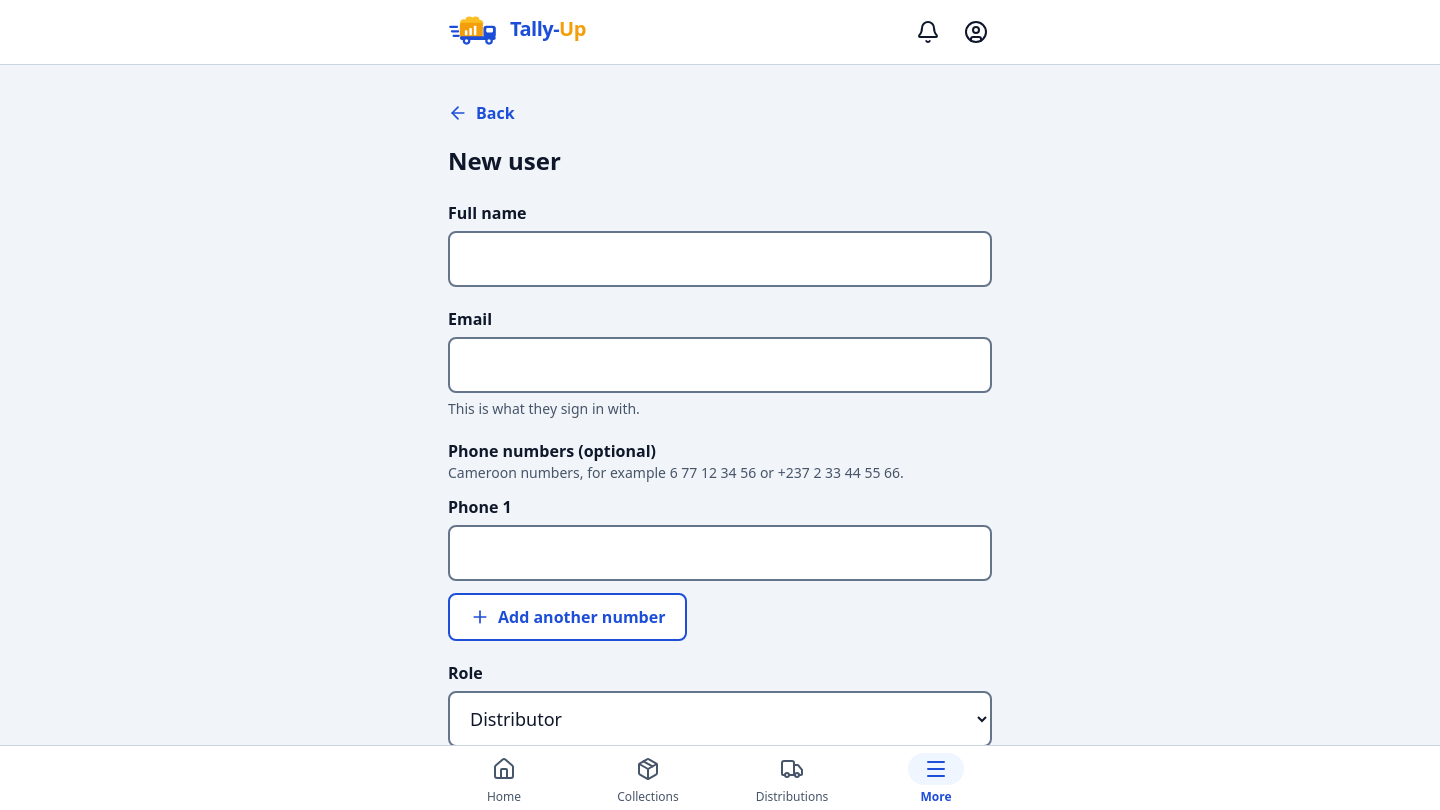
Test: Add user › USR-03: a depot manager needs a depot; only then is the form accepted
Expected: the field labelled "Depot" is not shown
Type "New Manager" into the field labelled "Full name" at [720, 259], box [448,231,992,287]
Type "new.manager@x.test" into the field labelled "Email" at [720, 365], box [448,337,992,393]
Select "Depot Manager" in the dropdown labelled "Role" at [720, 719], box [448,691,992,747]
(page scrolled)
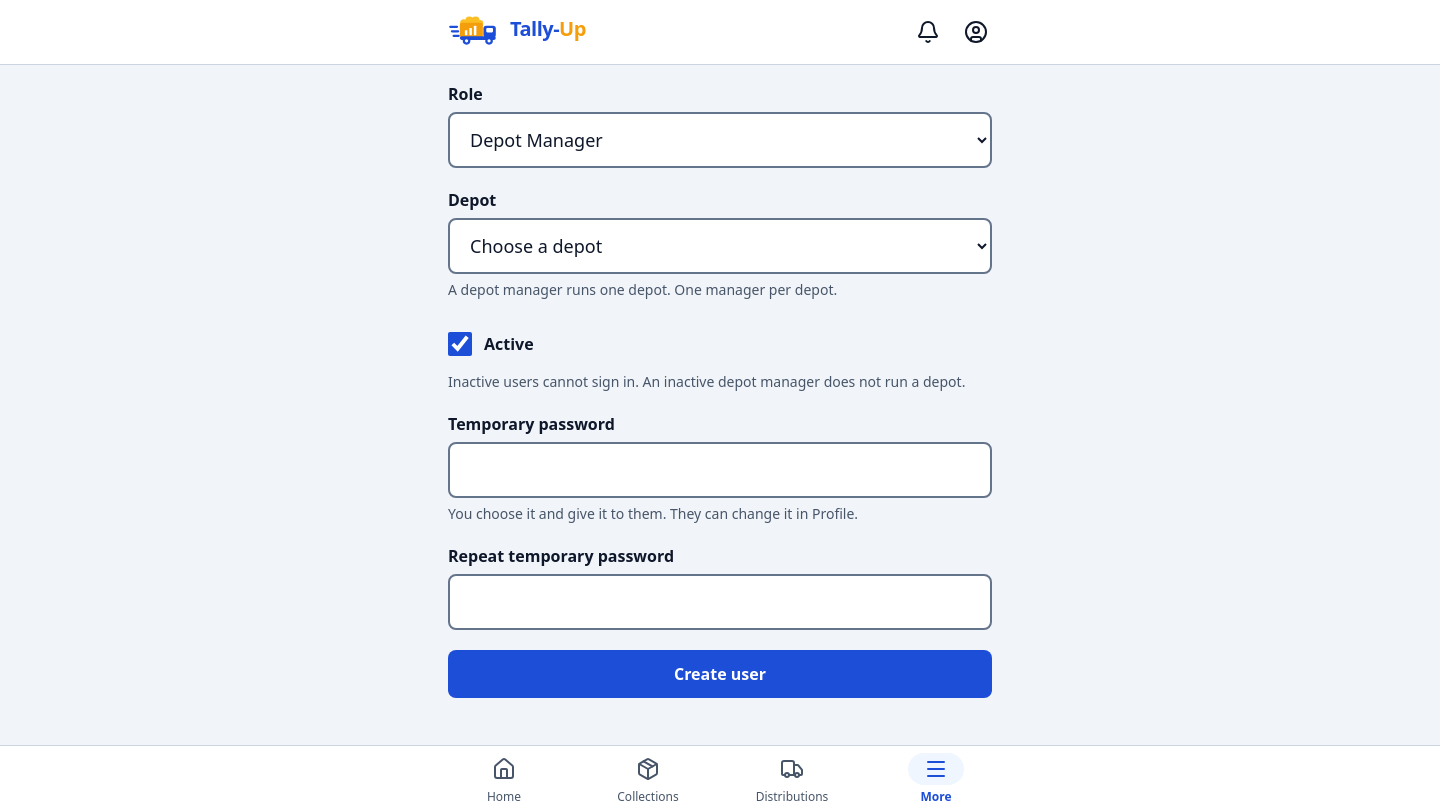
Type "temp-pass-1" into the password field labelled "Temporary password" at [720, 470], box [448,442,992,498]
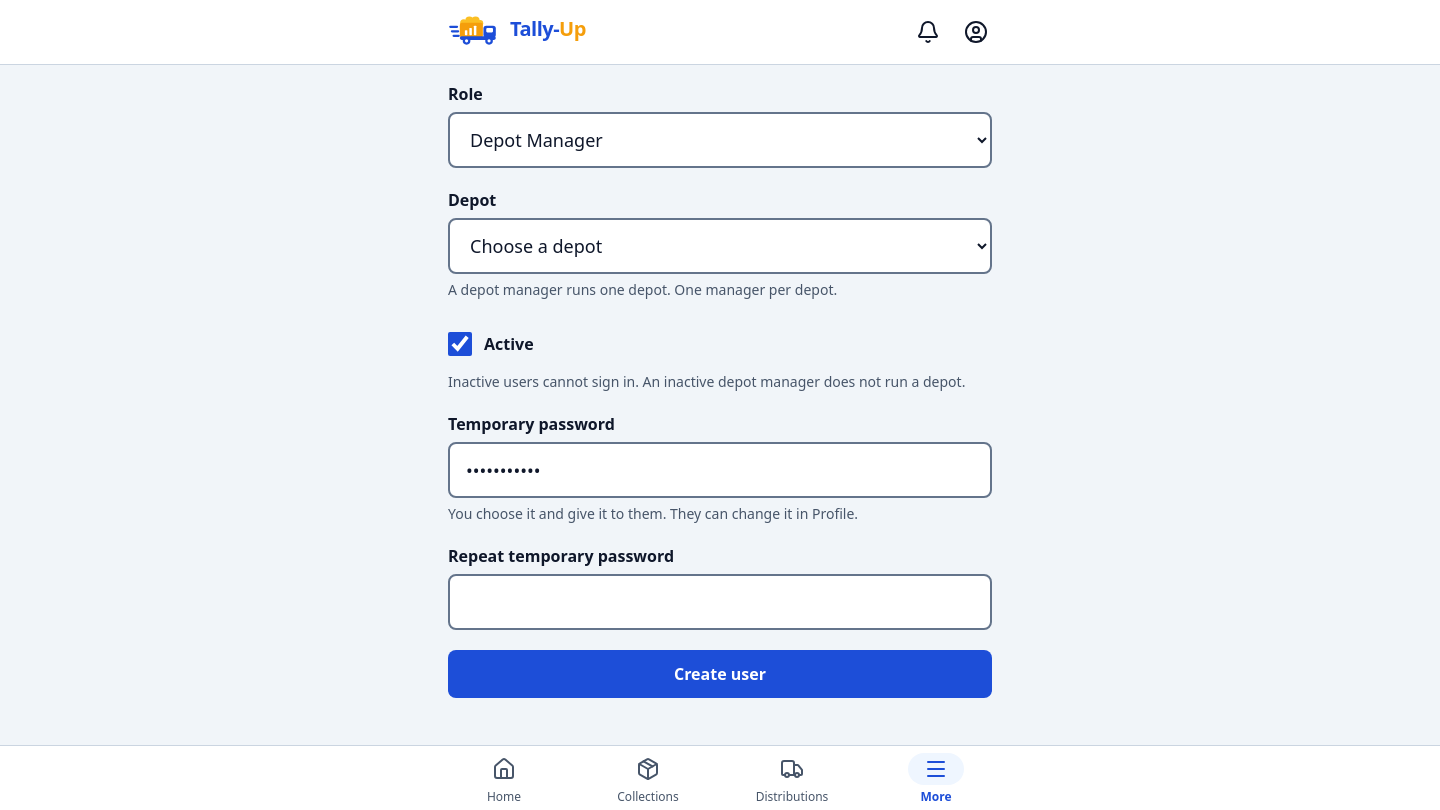
Type "temp-pass-1" into the password field labelled "Repeat temporary password" at [720, 602], box [448,574,992,630]
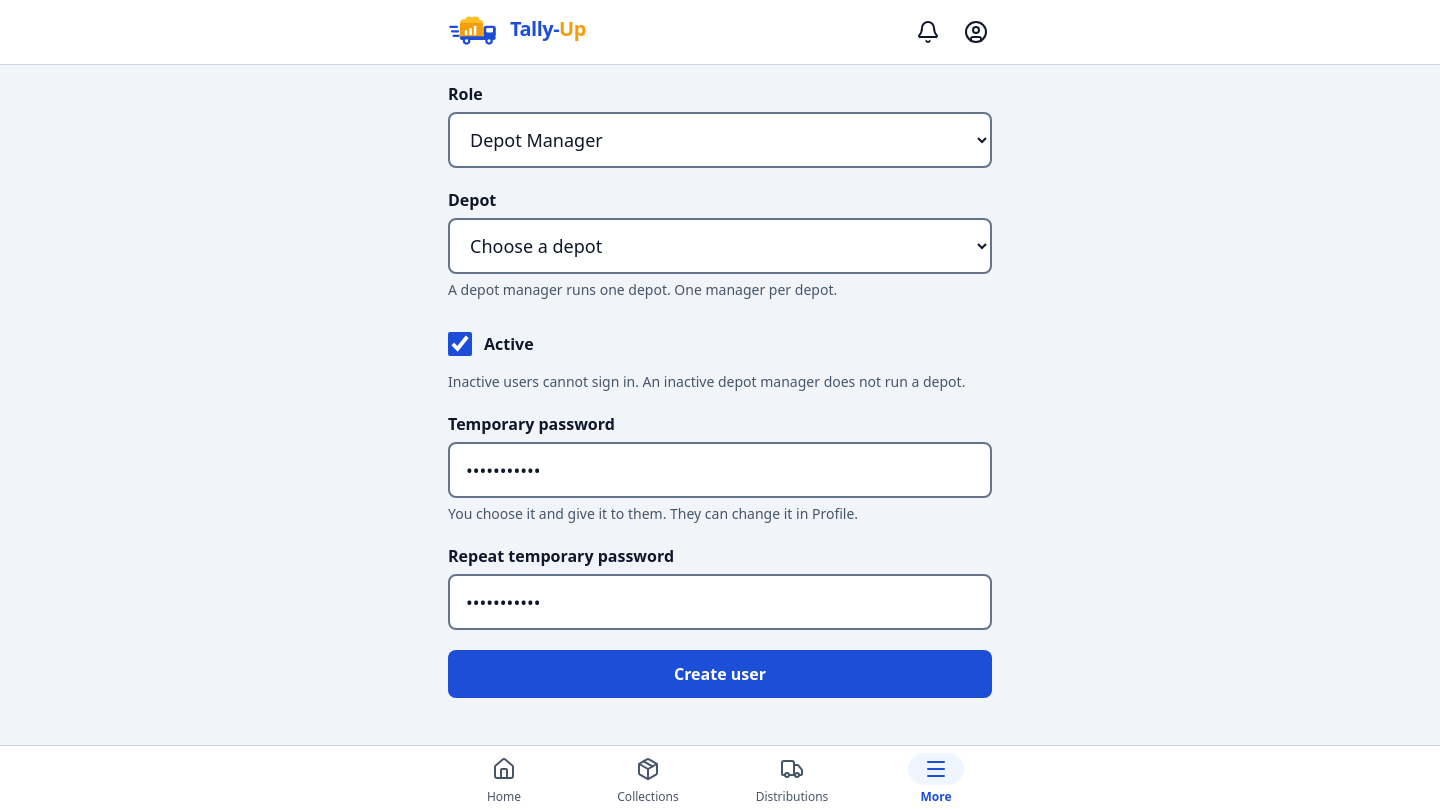
Click the button "Create user" at [720, 674], box [448,650,992,698]
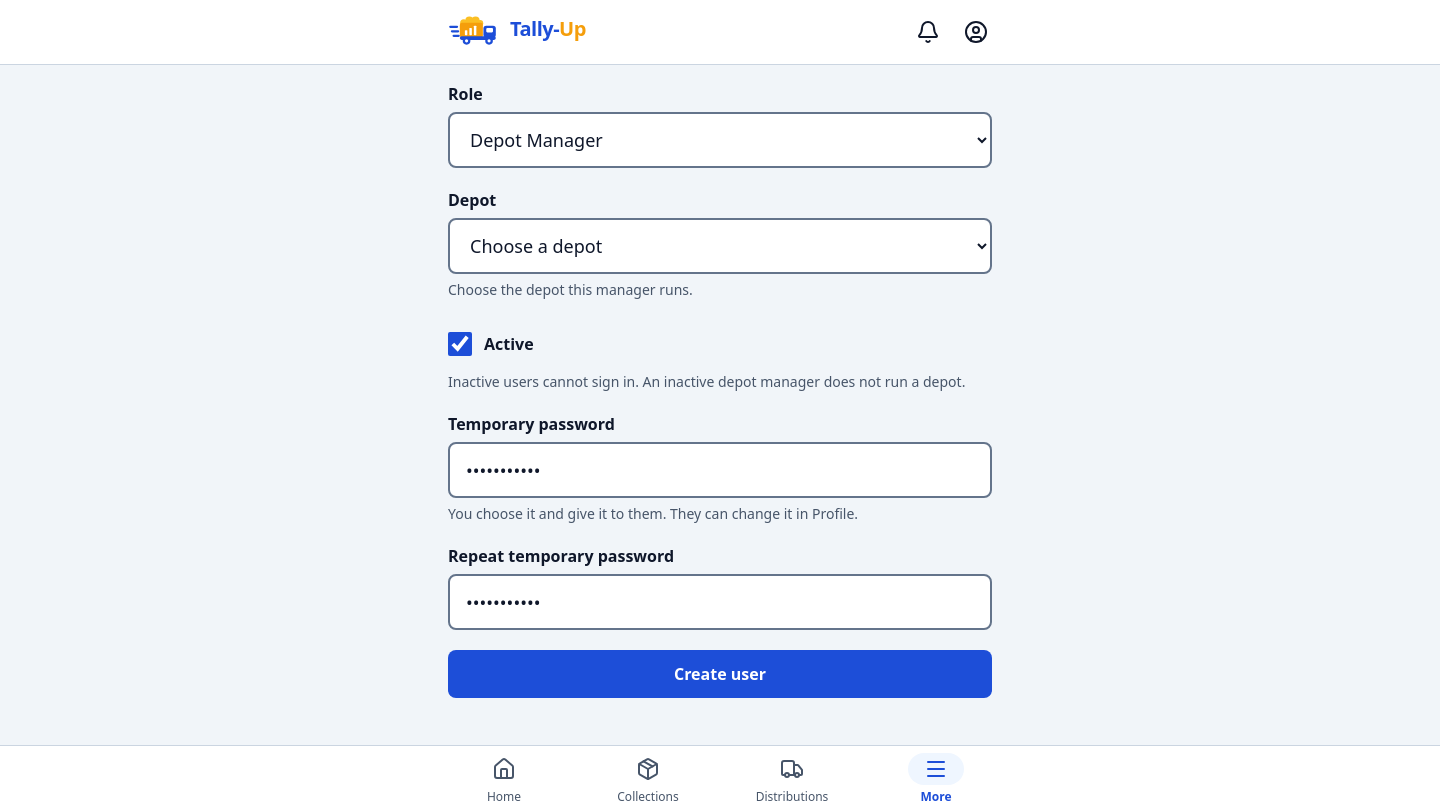
Select "Bonaberi (no manager)" in the dropdown labelled "Depot" at [720, 246], box [448,218,992,274]
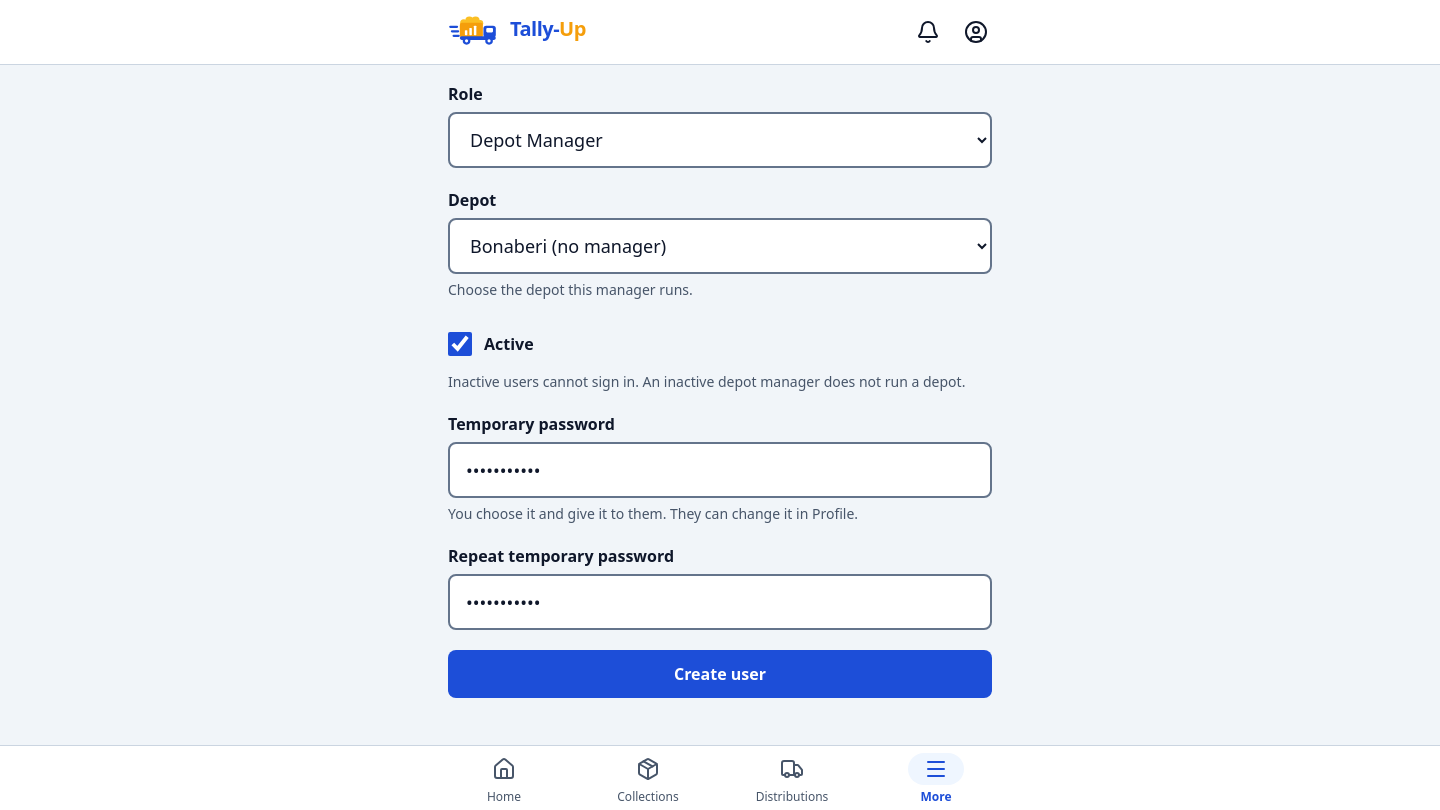
Click the button "Create user" at [720, 674], box [448,650,992,698]
(page scrolled)
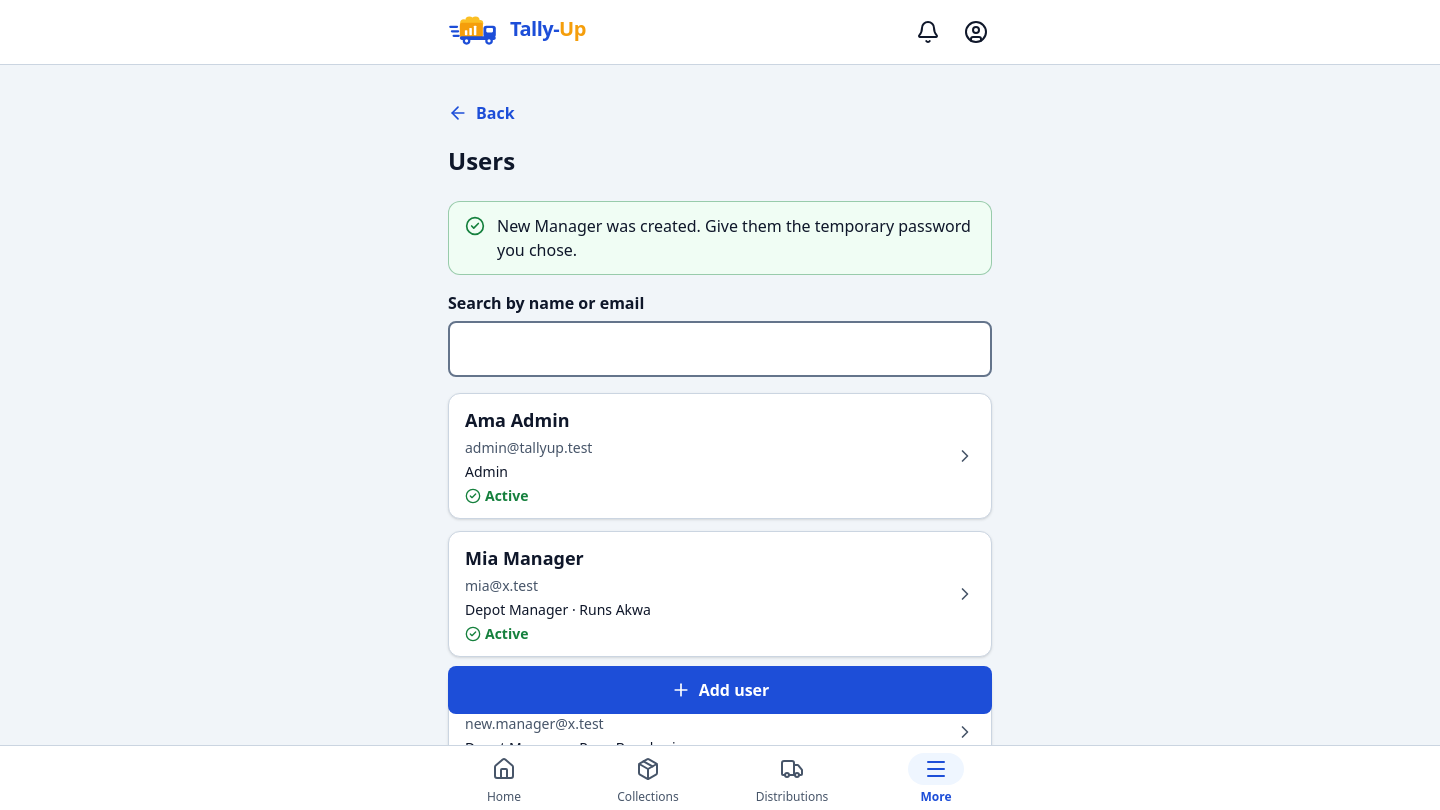
Now the text "New Manager was created" is shown, box [497,215,971,261]
